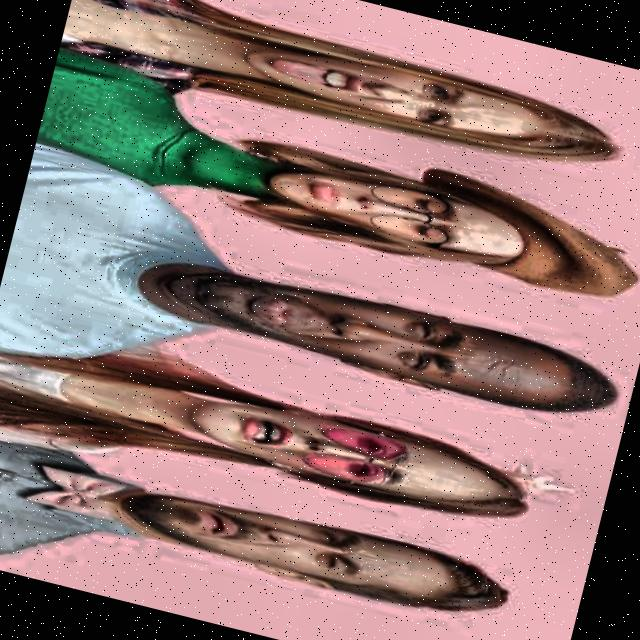disgust: (110, 232, 637, 436), (209, 10, 640, 192), (169, 368, 590, 554), (107, 469, 539, 640)
sad: (210, 120, 640, 317)
